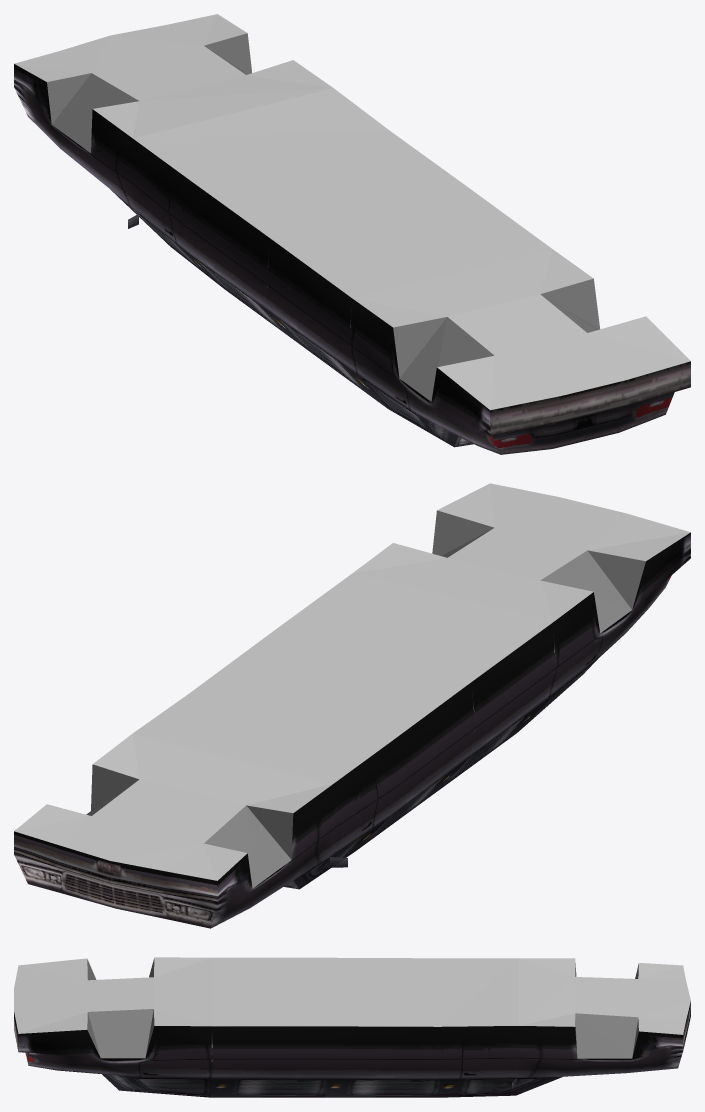
The model's file is RIO_model11_clean.obj.
3 renders of one model, top to bottom at view 1: azimuth 30°, elevation 25°; view 2: azimuth 150°, elevation 25°; view 3: azimuth 270°, elevation 25°, orthographic. The views are drawn at different scales.
Visible parts, largest first — view 1: RIO_model11_clean; view 2: RIO_model11_clean; view 3: RIO_model11_clean.
Boxes of the visible parts, x1,y1,x2,y2 form: RIO_model11_clean: [14, 14, 690, 454]; RIO_model11_clean: [14, 483, 690, 928]; RIO_model11_clean: [14, 957, 690, 1097].
Size of the model in its own units: 318 by 170 by 1210.
